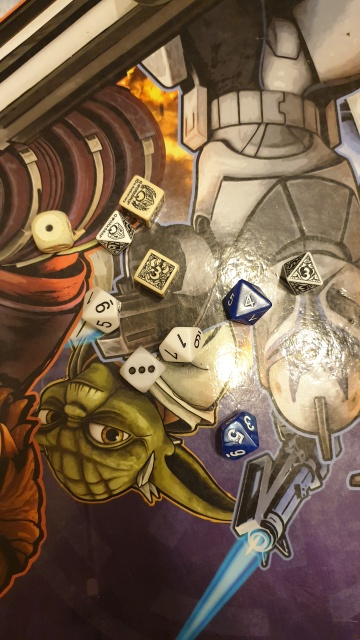d10-1: (158, 321, 208, 368)
d10-4: (235, 284, 263, 320)
d10-5: (210, 406, 264, 469)
d10-9: (80, 288, 125, 336)
d6-1: (30, 210, 73, 254)
d6-3: (121, 344, 163, 396)
d6p-3: (134, 249, 179, 296)
d6p-6: (119, 175, 166, 221)
d8p-3: (281, 250, 325, 298)
d8p-8: (92, 210, 136, 255)
